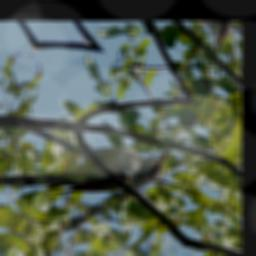Cuckoo: (0, 81, 173, 255)
